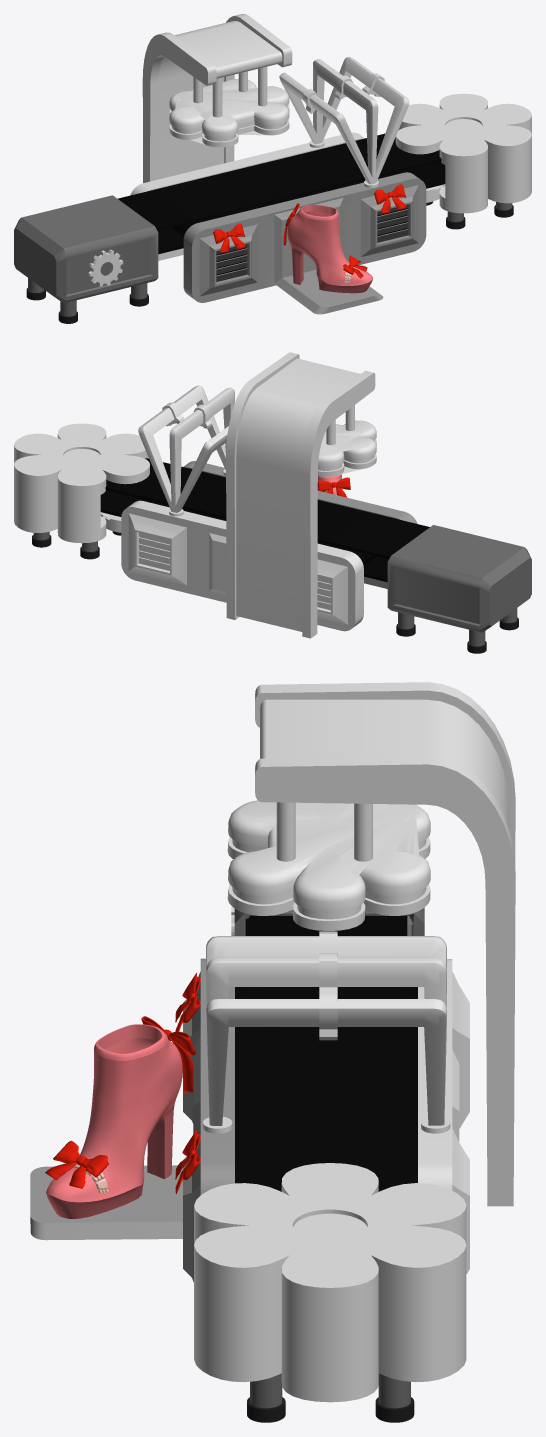
File: ayakkabmak5.fbx
3 renders of one model, top to bottom at view 1: azimuth 30°, elevation 25°; view 2: azimuth 150°, elevation 25°; view 3: azimuth 270°, elevation 25°, orthographic. The views are drawn at different scales.
Parts seen in each view (by area): view 1: Cube.078, Flower.003, Circle.167, Plane.014, Circle.172, Flower.004, s4studio_mesh_1_geom.027, Cube.083, Cube.082, Cube.080, Cube.081, Circle.169 (+6 smaller); view 2: Plane.014, Cube.080, Flower.003, Circle.172, Circle.167, Flower.004, Cube.083, Cube.082, Cube.078, Cube.081, Circle.168, Circle.169 (+3 smaller); view 3: Flower.003, Plane.014, Circle.167, Flower.004, s4studio_mesh_1_geom.027, Cube.078, Cube.083, Cube.082, Cube.080, Cube.081, Circle.168, Circle.169 (+5 smaller).
Boxes of the visible parts, x1=… form: Cube.078: x1=183, y1=172, x2=426, y2=314; Flower.003: x1=395, y1=93, x2=531, y2=213; Circle.167: x1=118, y1=133, x2=445, y2=254; Plane.014: x1=142, y1=14, x2=292, y2=182; Circle.172: x1=14, y1=195, x2=158, y2=303; Flower.004: x1=169, y1=79, x2=289, y2=147; s4studio_mesh_1_geom.027: x1=287, y1=204, x2=372, y2=293; Cube.083: x1=319, y1=57, x2=409, y2=183; Cube.082: x1=313, y1=59, x2=378, y2=183; Cube.080: x1=130, y1=132, x2=364, y2=260; Cube.081: x1=279, y1=72, x2=372, y2=184; Circle.169: x1=193, y1=66, x2=267, y2=117; Plane.014: x1=226, y1=352, x2=375, y2=638; Cube.080: x1=121, y1=500, x2=363, y2=631; Flower.003: x1=14, y1=423, x2=149, y2=543; Circle.172: x1=387, y1=525, x2=531, y2=632; Circle.167: x1=100, y1=458, x2=429, y2=582; Flower.004: x1=318, y1=420, x2=376, y2=476; Cube.083: x1=138, y1=385, x2=225, y2=512; Cube.082: x1=169, y1=387, x2=234, y2=511; Cube.078: x1=183, y1=461, x2=417, y2=588; Cube.081: x1=174, y1=423, x2=229, y2=512; Circle.168: x1=139, y1=499, x2=376, y2=565; Circle.169: x1=326, y1=405, x2=354, y2=445; Flower.003: x1=194, y1=1163, x2=466, y2=1402; Plane.014: x1=255, y1=682, x2=515, y2=1206; Circle.167: x1=245, y1=915, x2=407, y2=1191; Flower.004: x1=227, y1=800, x2=430, y2=930; s4studio_mesh_1_geom.027: x1=46, y1=1024, x2=182, y2=1218; Cube.078: x1=30, y1=958, x2=234, y2=1282; Cube.083: x1=206, y1=994, x2=446, y2=1125; Cube.082: x1=206, y1=953, x2=446, y2=1122; Cube.080: x1=418, y1=959, x2=469, y2=1274; Cube.081: x1=206, y1=931, x2=446, y2=968; Circle.168: x1=235, y1=987, x2=417, y2=1183; Circle.169: x1=276, y1=802, x2=372, y2=861.
Size of the model in its own units: 1410 by 604 by 601.
